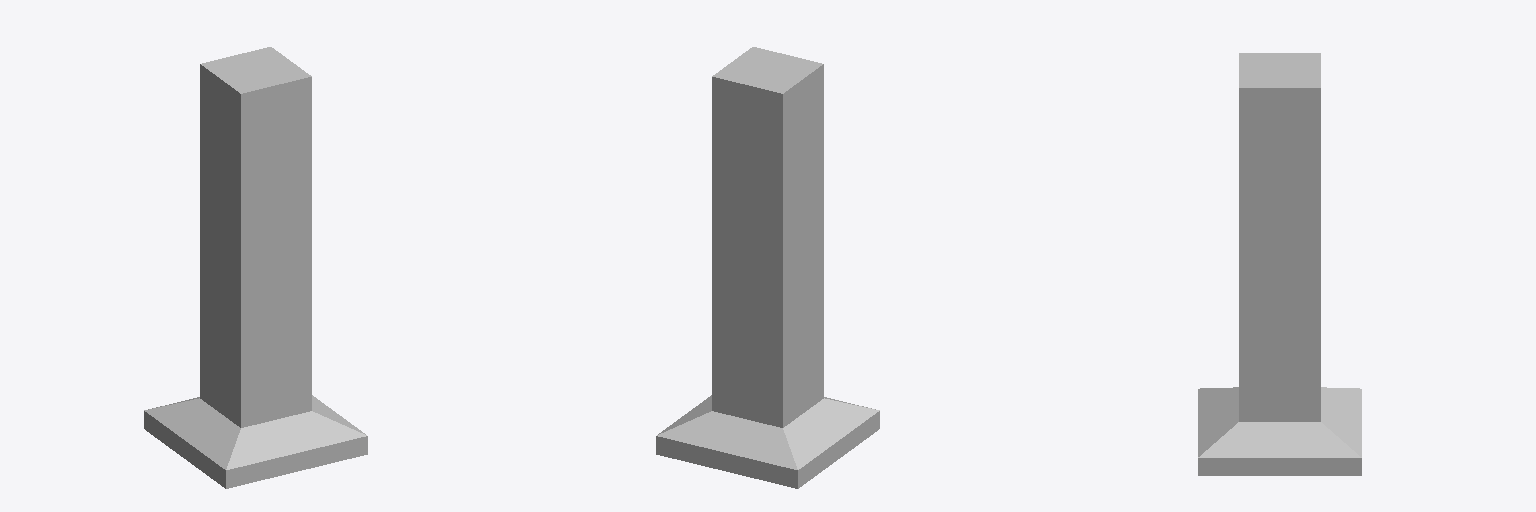
Rendered from pipesupphigh.obj.
The picture shows the model from 3 angles: view 1: azimuth 30°, elevation 25°; view 2: azimuth 150°, elevation 25°; view 3: azimuth 270°, elevation 25°; orthographic projection.
Parts seen in each view (by area): view 1: pipe_supportHigh; view 2: pipe_supportHigh; view 3: pipe_supportHigh.
Boxes of the visible parts, box(x1,y1,x2,y2) form: pipe_supportHigh: box(144, 47, 367, 488); pipe_supportHigh: box(656, 47, 879, 488); pipe_supportHigh: box(1198, 53, 1361, 475).
Bounding box in the file's own units: 0.4 × 1 × 0.4.